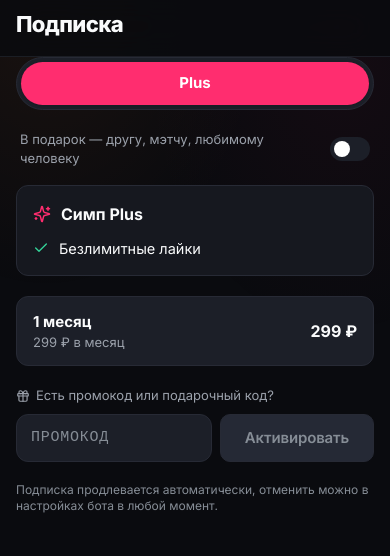
Test: Plans: одно поле на промокод и подарочный код › двойной промах говорит, что не подошло ничто
Type "ОПЕЧАТКА" into the field with placeholder "ПРОМОКОД" at (114, 438), box [16, 414, 212, 462]
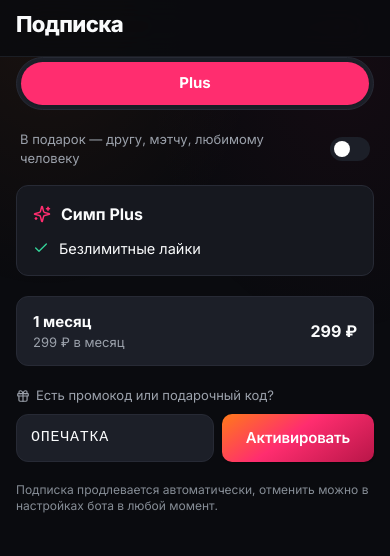
Click the button "Активировать" at (298, 438), box [222, 414, 374, 462]
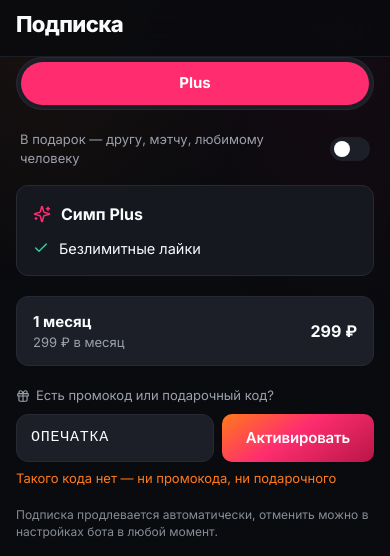
Check: the text "Такого кода нет — ни промокода, ни подарочного" is shown, box [16, 470, 374, 487]
